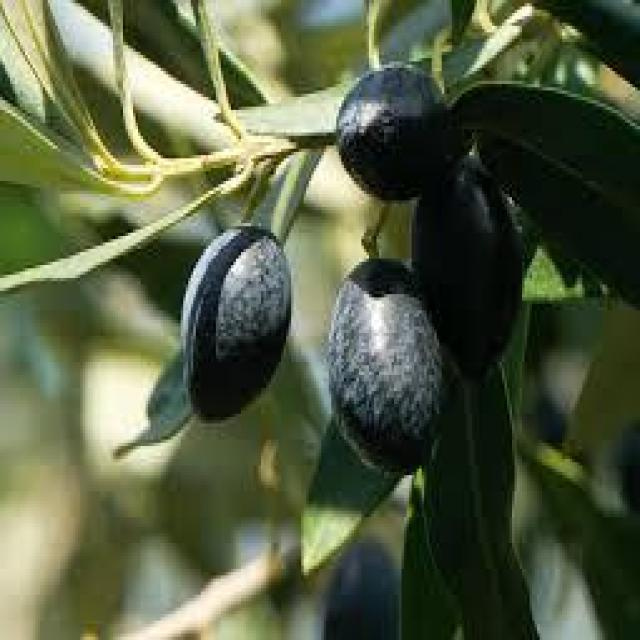Healthy: (324, 259, 452, 485), (183, 223, 289, 420)
